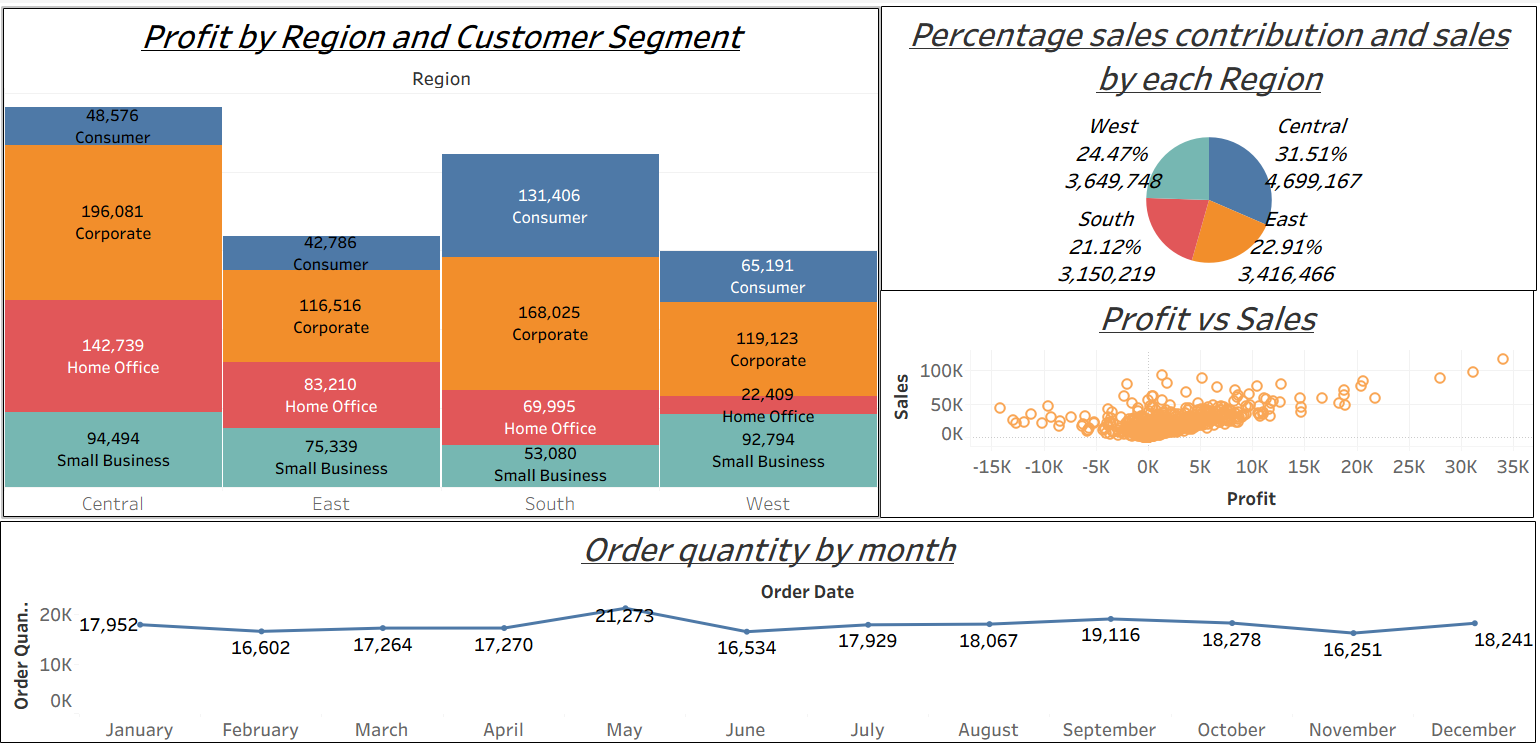

What the dashboard file says about the page in this screenshot:
{"tool":"tableau","page":{"name":"Dashboard 1","canvas":[1000,1000],"units":"permille","ordinal":0},"visuals":[{"type":"worksheet","title":"Pie chart","mark":"Pie","box":[571,4,423.2,381.5]},{"type":"worksheet","title":"Bar chart","mark":"Automatic","rows":["Profit"],"cols":["Region"],"box":[4.5,6.7,565.2,681.4]},{"type":"worksheet","title":"scatterplot","mark":"Automatic","rows":["Sales"],"cols":["Profit"],"box":[570.3,384.2,421.9,305.2]},{"type":"worksheet","title":"Line chart","mark":"Line","rows":["Order Quantity"],"cols":["Order Date"],"box":[2.6,693.4,991,297.2]}]}

Visuals, with their boxes on the dashboard's canvas, which has no fixed pixel size, in thousandths of its width and height (x1, y1, x2, y2). These are canvas units, not pixel positions in the 1540x747 screenshot, which may show the page scaled, cropped or inside an application window:
"Pie chart" worksheet (Pie marks): 571 4 994 386
"Bar chart" worksheet: 4 7 570 688
"scatterplot" worksheet: 570 384 992 689
"Line chart" worksheet (Line marks): 3 693 994 991
